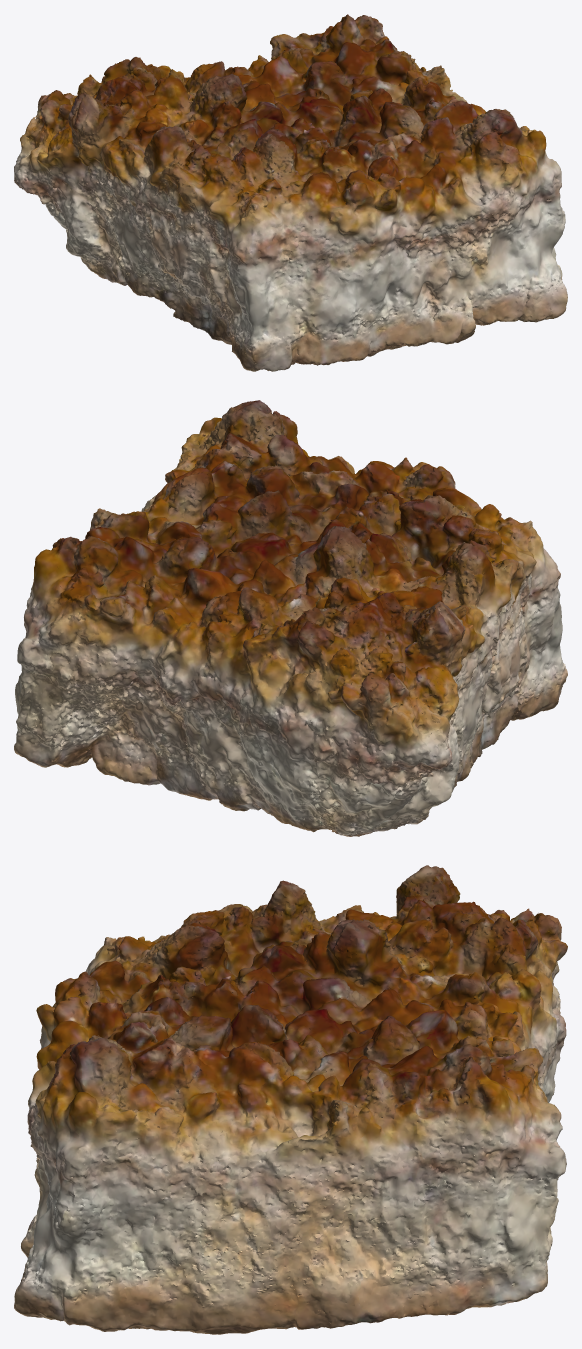
File: citrine.glb
The picture shows the model from 3 angles, top to bottom: view 1: azimuth 30°, elevation 25°; view 2: azimuth 150°, elevation 25°; view 3: azimuth 270°, elevation 25°; orthographic projection. The views are drawn at different scales.
Parts seen in each view (by area): view 1: Object_2; view 2: Object_2; view 3: Object_2.
Boxes of the visible parts, <box> form: Object_2: <box>14,14,567,371</box>; Object_2: <box>14,400,567,836</box>; Object_2: <box>14,865,567,1334</box>.
Bounding box in the file's own units: 50.06 × 27.12 × 47.38.
Materials: 1 (1 with a texture image).
